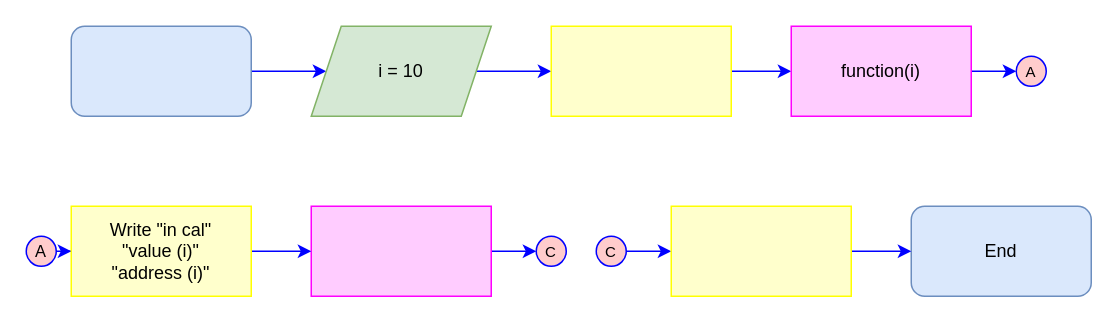
Some shapes in this 1118 by 323 pixel diagram are drawn without their labels. The centre of each missing label's shape, as x and y in pixels:
i + 10: [400,250]
Start: [160,70]
Write "after" "value (i)" "address (i)": [760,250]
Write "befor" "value (i)" "address (i)": [640,70]
